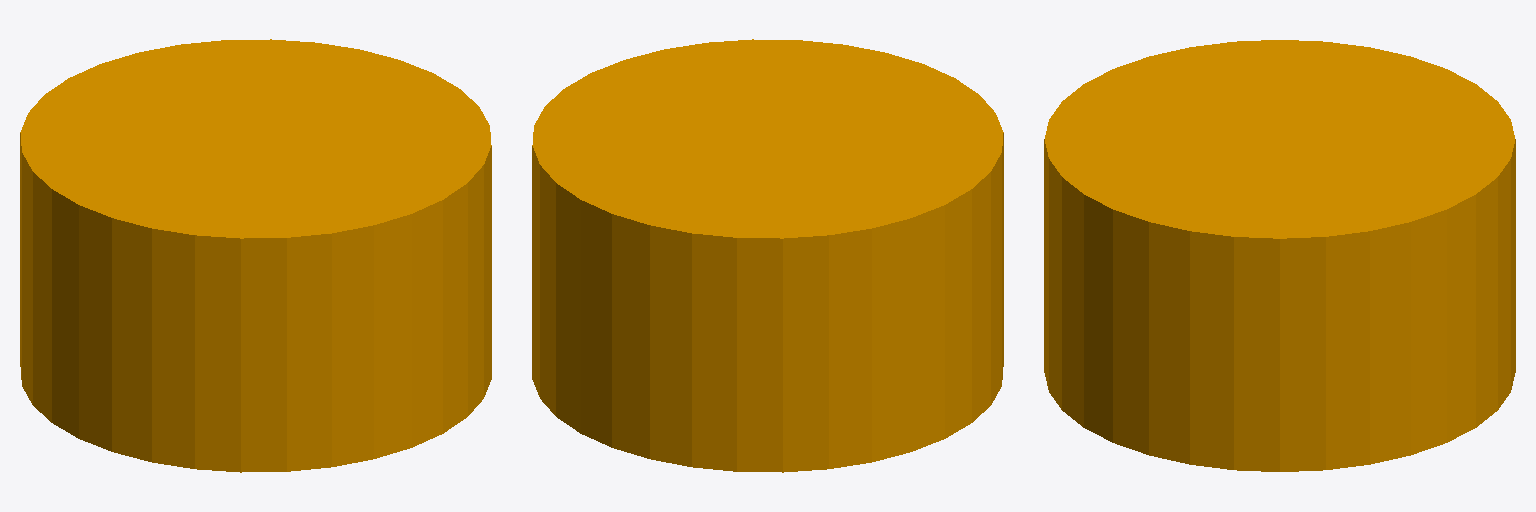
URDF robot description (car):
<?xml version="1.0"?>
<robot name="car">
  <link name="base_link">
    <visual>
      <geometry>
        <cylinder length="0.10938" radius="0.1"/>
      </geometry>
      <origin xyz="0.001 0 0.05199" rpy="0 0 0"/>
    </visual>
    <collision>
      <geometry>
        <cylinder length="0.10938" radius="0.1"/>
      </geometry>
      <origin xyz="0 0 0.05949" rpy="0 0 0"/>
    </collision>
    <inertial>
      <mass value="2.4"/>
      <inertia ixx="0.008392797" ixy="0" ixz="0" iyy="0.008392797" iyz="0" izz="0.012"/>
      <origin xyz="0 0 0.05949" rpy="0 0 0"/>
    </inertial>
  </link>
  <link name="right_wheel_link">
    <visual>
      <geometry>
        <cylinder length="0.0206" radius="0.0352"/>
      </geometry>
    </visual>
    <collision>
      <geometry>
        <cylinder length="0.0206" radius="0.0352"/>
      </geometry>
    </collision>
    <inertial>
      <mass value="0.080186715"/>
      <inertia ixx="0.000027674" ixy="0" ixz="0" iyy="0.000027674" iyz="0" izz="0.000049677"/>
    </inertial>
     <contact>
      <lateral_friction value="1.0"/>
      <rolling_friction value="0.0"/>
      <stiffness value="30000"/>
      <damping value="1000"/>
    </contact>
  </link>
  <joint name="right_wheel_joint" type="continuous">
    <parent link="base_link"/>
    <child link="right_wheel_link"/>
    <origin xyz="0 -0.06 0.025" rpy="-1.570796327 0 0"/>
    <axis xyz="0 0 1"/>
  </joint>
  <gazebo reference="right_wheel">
    <mu1 value="10"/>
    <mu2 value="10"/>
    <kp value="100000000.0"/>
    <kd value="10000.0"/>
  </gazebo>
  <link name="left_wheel_link">
    <visual>
      <geometry>
        <cylinder length="0.0206" radius="0.0352"/>
      </geometry>
    </visual>
    <collision>
      <geometry>
        <cylinder length="0.0206" radius="0.0352"/>
      </geometry>
    </collision>
    <inertial>
      <mass value="0.080186715"/>
      <inertia ixx="0.000027674" ixy="0" ixz="0" iyy="0.000027674" iyz="0" izz="0.000049677"/>
    </inertial>
     <contact>
      <lateral_friction value="1.0"/>
      <rolling_friction value="0.0"/>
      <stiffness value="30000"/>
      <damping value="1000"/>
    </contact>
  </link>
  <joint name="left_wheel_joint" type="continuous">
    <parent link="base_link"/>
    <child link="left_wheel_link"/>
    <origin xyz="0 0.06 0.025" rpy="-1.570796327 0 0"/>
    <axis xyz="0 0 1"/>
  </joint>
  <gazebo reference="left_wheel">
    <mu1 value="10"/>
    <mu2 value="10"/>
    <kp value="100000000.0"/>
    <kd value="10000.0"/>
  </gazebo>
  <link name="caster_front_link">
    <visual>
      <geometry>
        <cylinder length="0.0176" radius="0.017"/>
      </geometry>
    </visual>
    <collision>
      <geometry>
        <cylinder length="0.0176" radius="0.017"/>
      </geometry>
    </collision>
    <inertial>
      <mass value="0.015979397"/>
      <inertia ixx="0.000001567" ixy="0" ixz="0" iyy="0.000001567" iyz="0" izz="0.000002309"/>
    </inertial>
  </link>
  <joint name="caster_front_joint" type="fixed">
    <parent link="base_link"/>
    <child link="caster_front_link"/>
    <origin xyz="0.05 0 0.007" rpy="-1.570796327 0 0"/>
  </joint>
  <gazebo reference="caster_front_link">
    <mu1 value="0"/>
    <mu2 value="0"/>
    <kp value="100000000.0"/>
    <kd value="10000.0"/>
  </gazebo>
  <link name="caster_back_link">
    <visual>
      <geometry>
        <cylinder length="0.0176" radius="0.017"/>
      </geometry>
    </visual>
    <collision>
      <geometry>
        <cylinder length="0.0176" radius="0.017"/>
      </geometry>
    </collision>
    <inertial>
      <mass value="0.015979397"/>
      <inertia ixx="0.000001567" ixy="0" ixz="0" iyy="0.000001567" iyz="0" izz="0.000002309"/>
    </inertial>
  </link>
  <joint name="caster_back_joint" type="fixed">
    <parent link="base_link"/>
    <child link="caster_back_link"/>
    <origin xyz="-0.05 0 0.009" rpy="-1.570796327 0 0"/>
  </joint>
  <gazebo reference="caster_back_link">
    <mu1 value="0"/>
    <mu2 value="0"/>
    <kp value="100000000.0"/>
    <kd value="10000.0"/>
  </gazebo>
  <link name="eyes">
    <visual>
      <geometry>
        <box size="0.001 0.003 0.003"/>
      </geometry>
    </visual>
    <collision>
      <geometry>
        <box size="0.01 0.03 0.03"/>
      </geometry>
    </collision>
    <inertial>
      <mass value="0.009"/>
      <inertia ixx="0.00000135" ixy="0" ixz="0" iyy="7.5e-7" iyz="0" izz="7.5e-7"/>
    </inertial>
  </link>
  <joint name="eyes_joint" type="fixed">
    <parent link="base_link"/>
    <child link="eyes"/>
    <origin xyz="0.06 0 0.1" rpy="0 0 0"/>
  </joint>
</robot>

--- Facts derived from the render (not from the file) ---
The picture shows the robot from 3 angles, left to right: view 1: azimuth 30°, elevation 25°; view 2: azimuth 150°, elevation 25°; view 3: azimuth 270°, elevation 25°; orthographic projection.
Model car with 6 links and 5 joints (2 continuous, 3 fixed), rooted at base_link, posed every joint at zero.
Links seen in each view (by area): view 1: base_link; view 2: base_link; view 3: base_link.
Boxes of the visible links, <box> form: base_link: <box>20,39,491,472</box>; base_link: <box>532,39,1003,472</box>; base_link: <box>1044,40,1515,471</box>.
Bounding box of the posed robot: 0.2 × 0.2 × 0.1169 m (x, y, z).
Geometry: primitives only (box / cylinder / sphere), no mesh files.